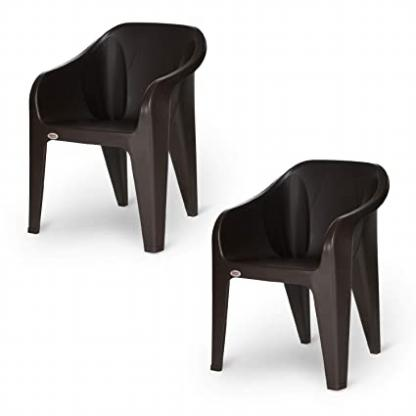chair: (20, 19, 205, 262)
